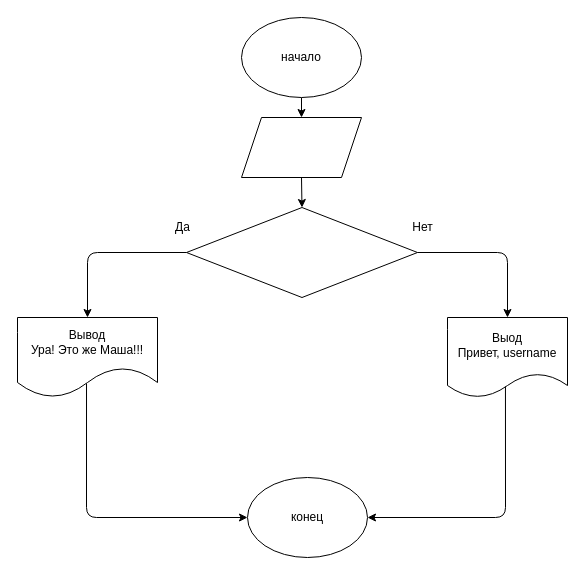
Image size: 585x575. Some labels were removed from this diagram. The centre of each missing label's shape, as x and y in pixels:
username == Маша: the point at 302,252
ввод username: the point at 301,147
